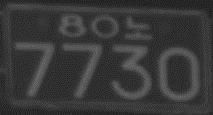0: (157, 45, 201, 102), (90, 14, 119, 39)
3: (110, 42, 152, 101)
7: (61, 41, 103, 99), (14, 41, 56, 96)
8: (58, 13, 86, 37)
노: (124, 14, 153, 40)
